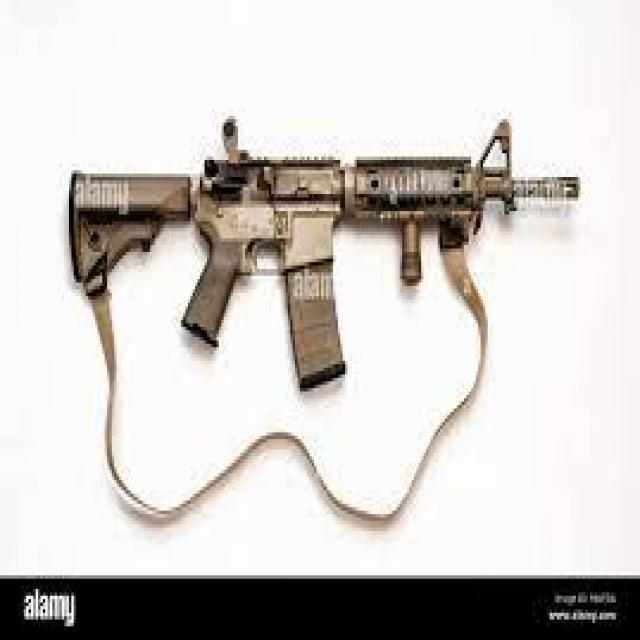weapon: (68, 115, 582, 392)
